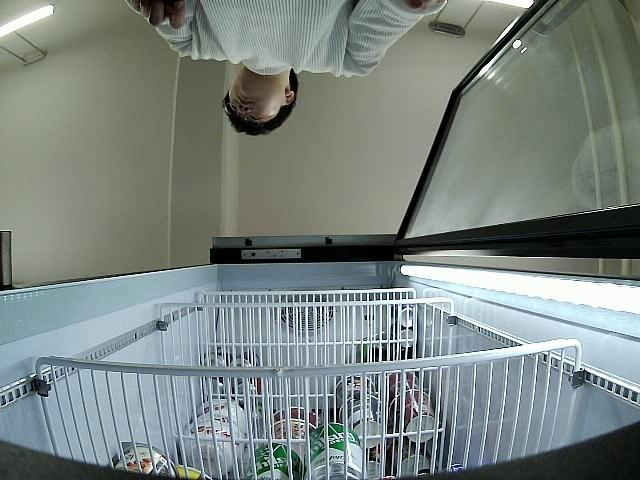00_hand: (131, 0, 188, 31)
